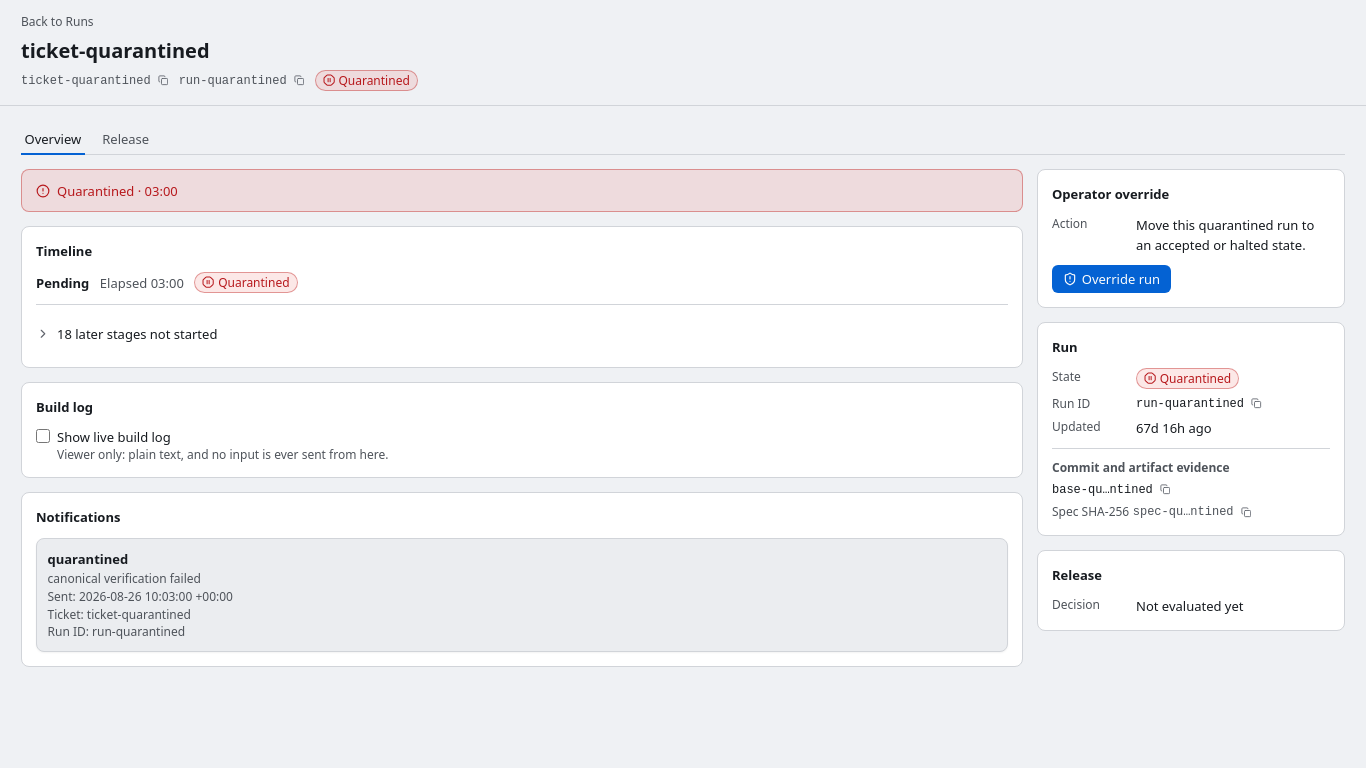
Scenario: the override dialog opens with the reason the request page carried
Click the button "Override run".
click(1111, 279)  # box [1052,265,1171,293]
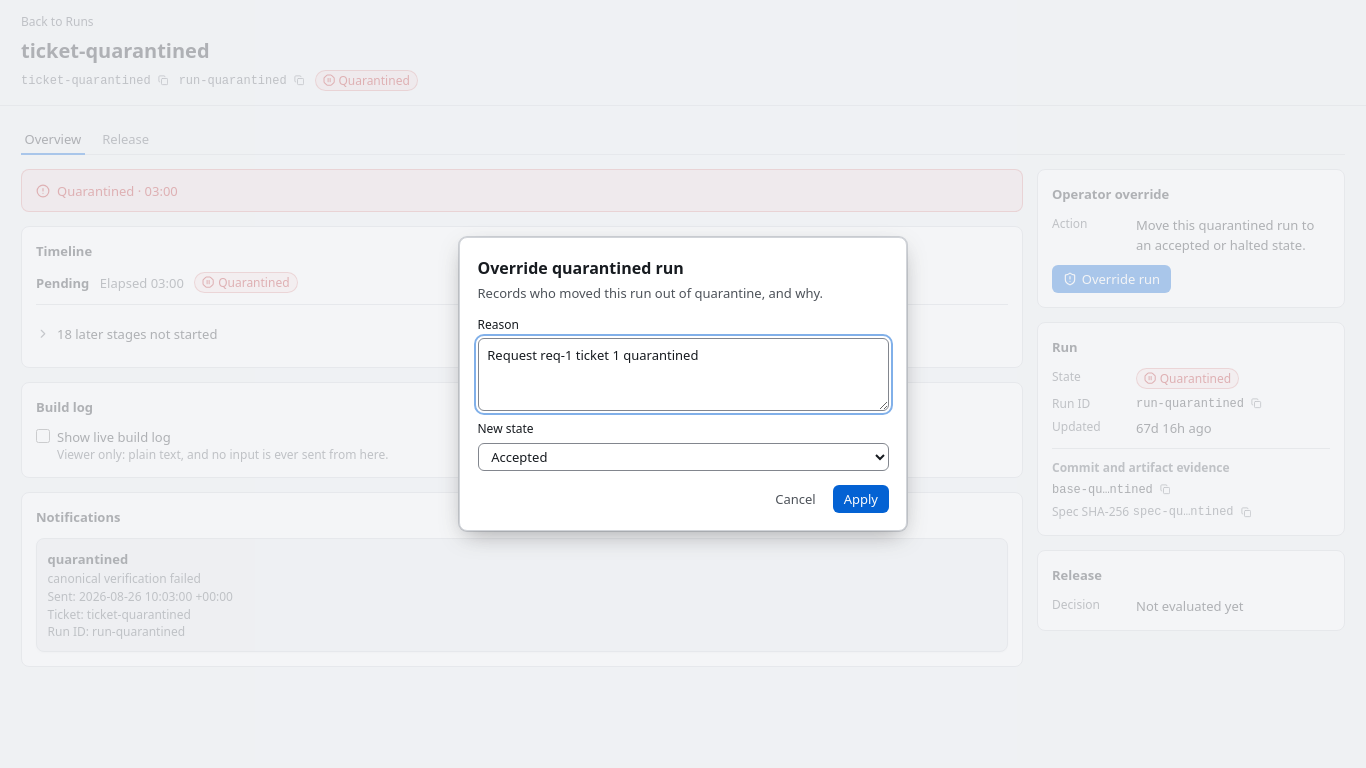
Expected: the text box labelled "Reason" holds "Request req-1 ticket 1 quarantined", [478,338,888,411]
